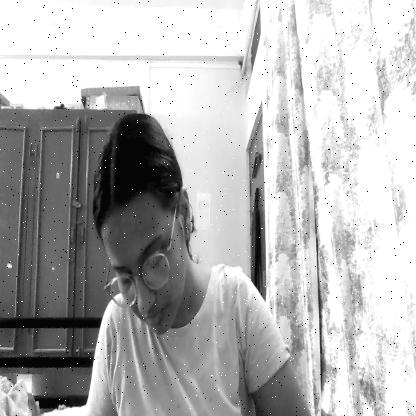Distracted: (106, 126, 188, 328)
